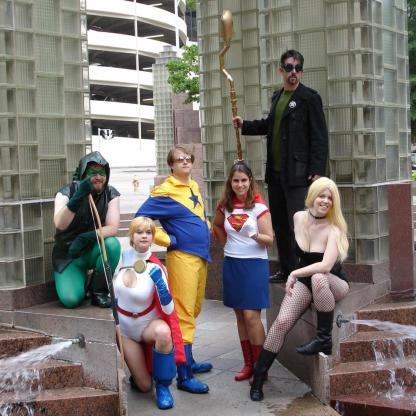face: (86, 165, 108, 191), (283, 60, 303, 85), (314, 191, 334, 215), (173, 152, 193, 174), (134, 227, 154, 249), (232, 175, 251, 196)
